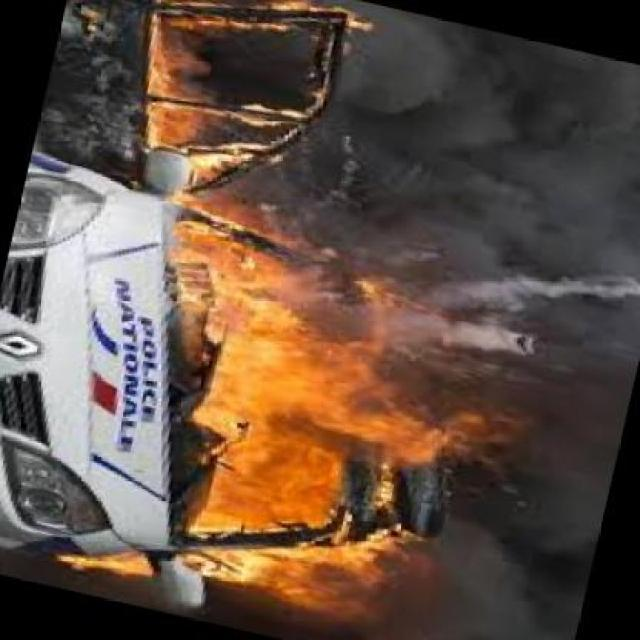Fire: (71, 210, 498, 614), (115, 0, 377, 200)
Smoke: (359, 10, 640, 273), (440, 286, 616, 626)
